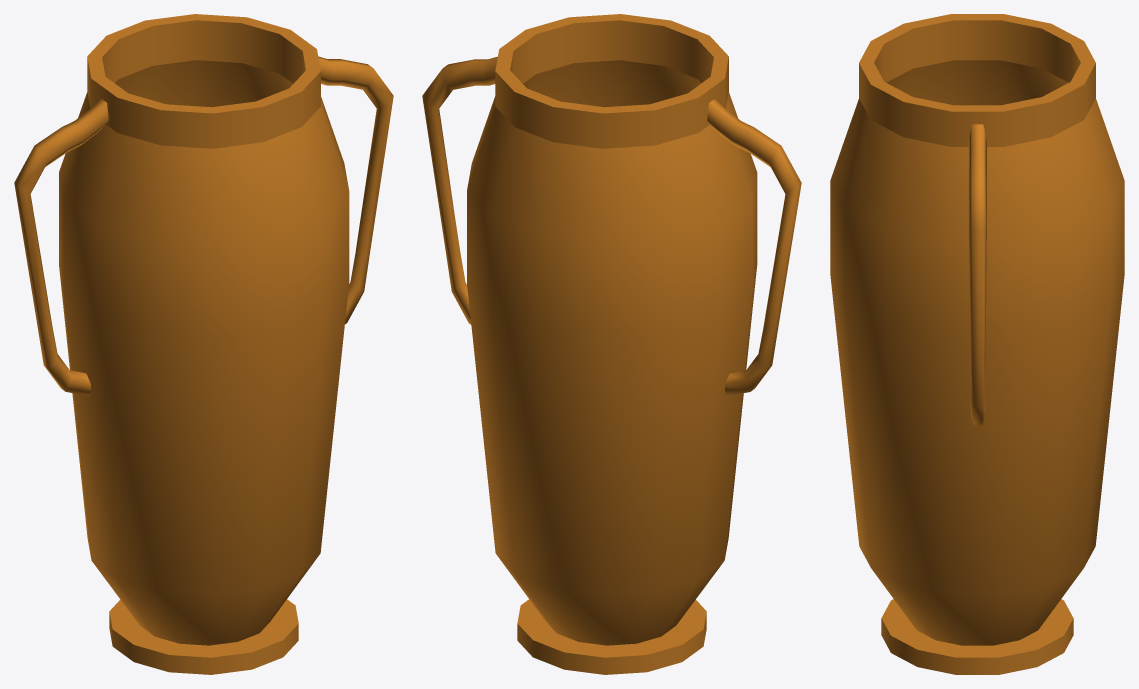
The model's file is SM_vase_arabian_03.fbx.
The picture shows the model from 3 angles, left to right: view 1: azimuth 30°, elevation 25°; view 2: azimuth 150°, elevation 25°; view 3: azimuth 270°, elevation 25°; orthographic projection.
Parts seen in each view (by area): view 1: Object002; view 2: Object002; view 3: Object002.
Part boxes in pixels (x1=…): Object002: x1=14, y1=14, x2=393, y2=674; Object002: x1=422, y1=14, x2=801, y2=674; Object002: x1=830, y1=14, x2=1124, y2=674.
Size of the model in its own units: 17.65 by 12.01 by 25.76.
